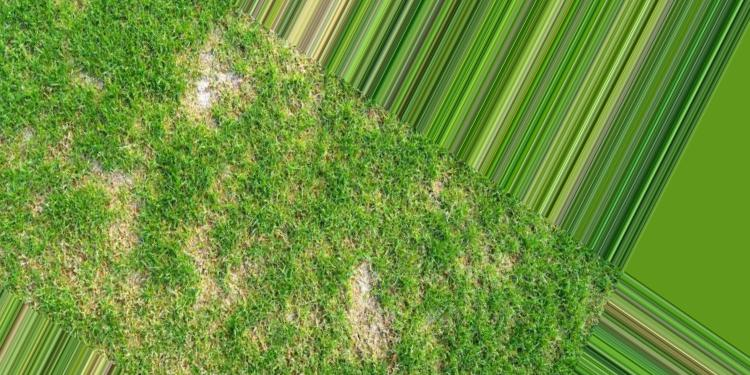patch: (99, 176, 159, 249), (353, 268, 395, 353), (189, 68, 234, 112)
